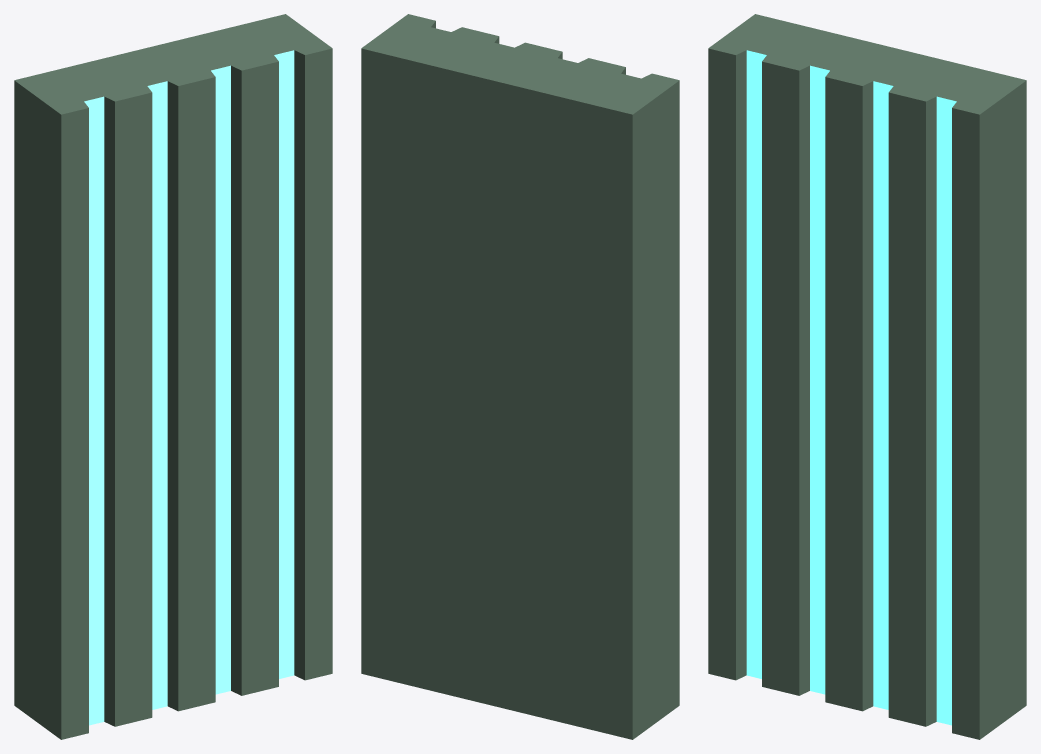
Rendered from W2_Wall_Ridge1.fbx.
3 views of the same model, side by side, from view 1: azimuth 30°, elevation 25°; view 2: azimuth 150°, elevation 25°; view 3: azimuth 330°, elevation 25° (orthographic).
Parts seen in each view (by area): view 1: W2_Wall_Ridge1.001; view 2: W2_Wall_Ridge1.001; view 3: W2_Wall_Ridge1.001.
Part boxes in pixels (x1=…): W2_Wall_Ridge1.001: x1=14, y1=14, x2=332, y2=739; W2_Wall_Ridge1.001: x1=361, y1=14, x2=679, y2=739; W2_Wall_Ridge1.001: x1=708, y1=14, x2=1026, y2=739.
Bounding box in the file's own units: 1 × 2.2 × 0.3.
